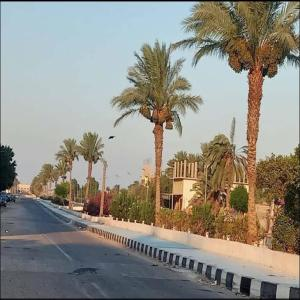palm tree: (170, 0, 300, 245), (109, 38, 203, 224), (206, 116, 248, 212), (76, 131, 104, 212), (55, 136, 79, 208)
